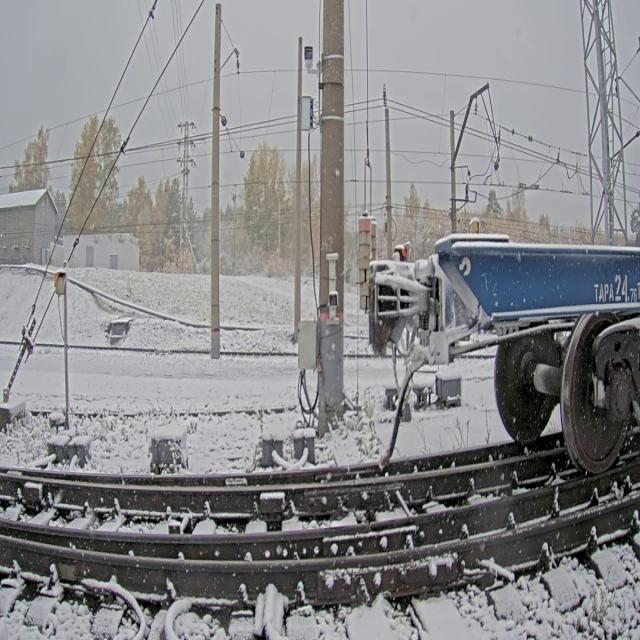flatcar: (352, 209, 640, 491)
